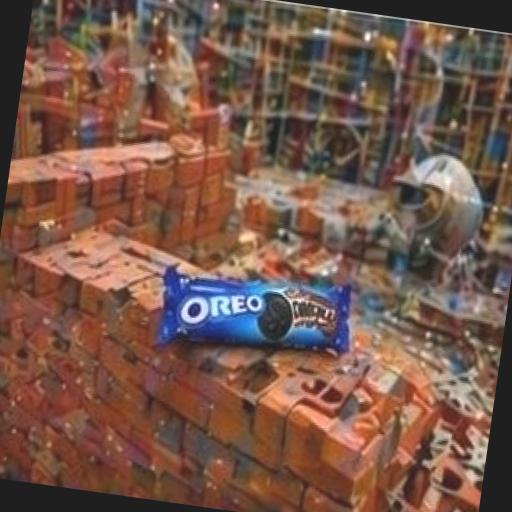oreo: (112, 203, 409, 411)
